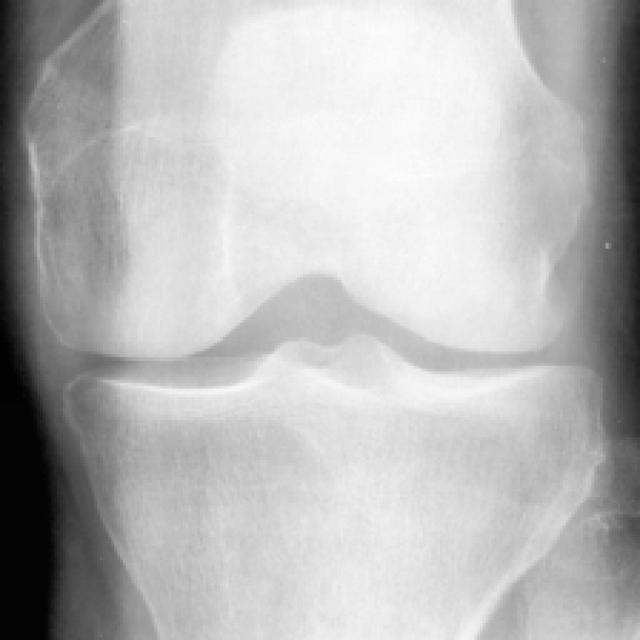femur: (26, 1, 588, 359)
tibia: (68, 337, 611, 637)
